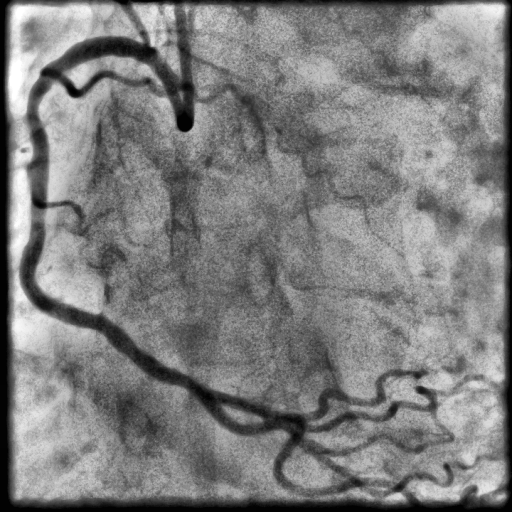pborca: (221, 394, 454, 497)
pda: (197, 399, 390, 497)
rca: (20, 36, 223, 403)
